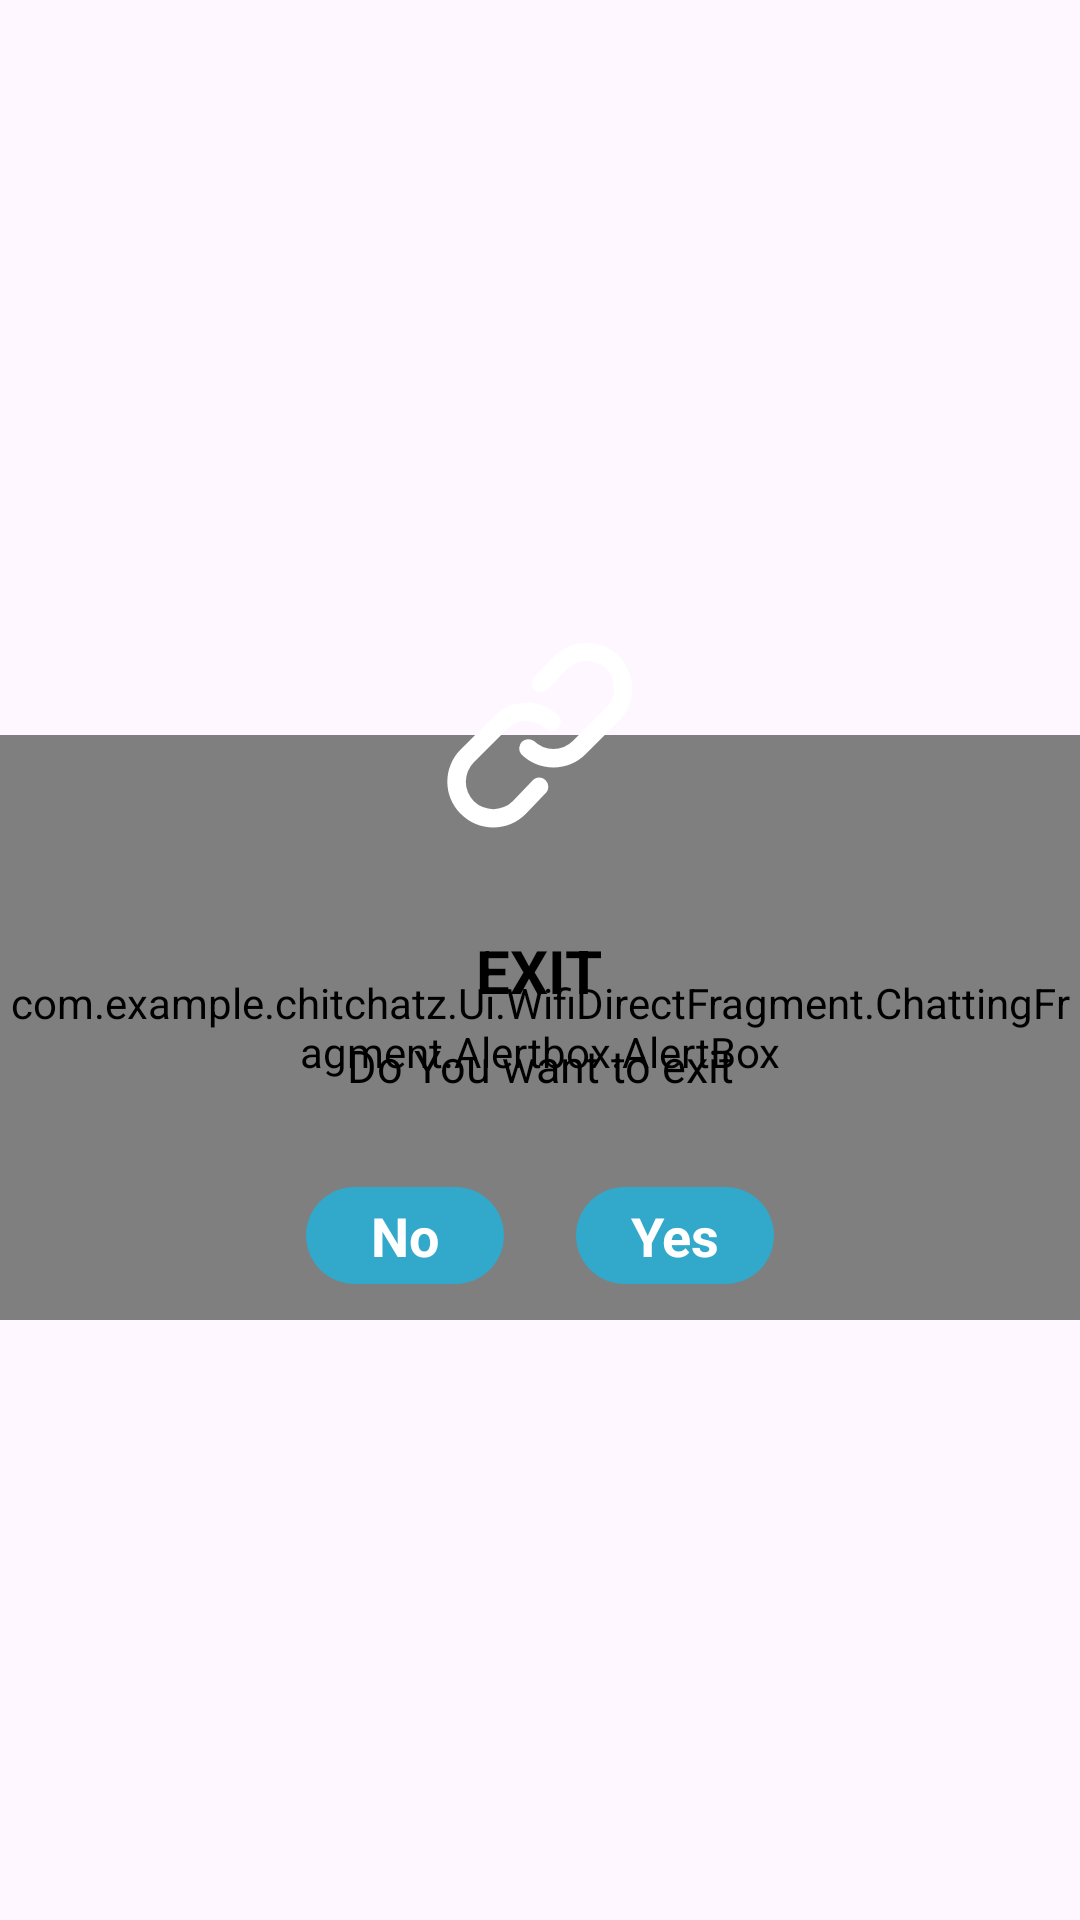

Where to tap for icons on this 1080 × 1920 app screen, as [x,y]:
link: [540,735]
